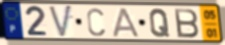2: (24, 5, 50, 39)
A: (111, 7, 141, 39)
B: (172, 8, 201, 39)
C: (85, 6, 107, 37)
Q: (148, 8, 171, 39)
V: (48, 4, 74, 40)
